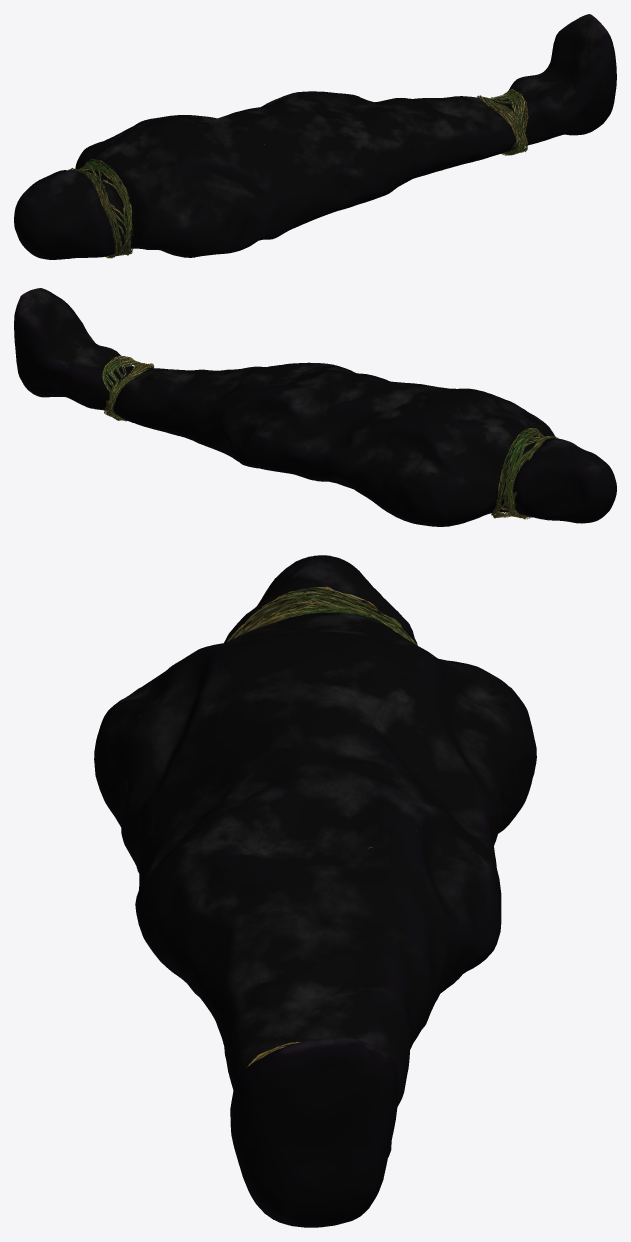
Rendered from corpse.glb.
The picture shows the model from 3 angles, top to bottom: view 1: azimuth 30°, elevation 25°; view 2: azimuth 150°, elevation 25°; view 3: azimuth 270°, elevation 25°; orthographic projection. The views are drawn at different scales.
Visible parts, largest first — view 1: Corpse Bag, Rope Head, Rope Feet, Rope Feet_Rope Feet PBR_0.001, Rope Head_Rope Head PBR_0.001, Rope Feet_Rope Feet PBR_0.002; view 2: Corpse Bag, Rope Head, Rope Feet, Rope Feet_Rope Feet PBR_0.001, Rope Head_Rope Head PBR_0.001, Rope Feet_Rope Feet PBR_0.002; view 3: Corpse Bag, Rope Head, Rope Head_Rope Head PBR_0.001.
Boxes of the visible parts, left/top/right/bottom form: Corpse Bag: left=14, top=14, right=616, bottom=259; Rope Head: left=68, top=159, right=133, bottom=258; Rope Feet: left=479, top=90, right=527, bottom=155; Rope Feet_Rope Feet PBR_0.001: left=477, top=89, right=528, bottom=155; Rope Head_Rope Head PBR_0.001: left=69, top=160, right=132, bottom=257; Rope Feet_Rope Feet PBR_0.002: left=477, top=90, right=527, bottom=155; Corpse Bag: left=14, top=288, right=616, bottom=526; Rope Head: left=491, top=428, right=558, bottom=518; Rope Feet: left=102, top=356, right=153, bottom=420; Rope Feet_Rope Feet PBR_0.001: left=102, top=355, right=154, bottom=421; Rope Head_Rope Head PBR_0.001: left=494, top=428, right=556, bottom=519; Rope Feet_Rope Feet PBR_0.002: left=103, top=356, right=153, bottom=420; Corpse Bag: left=94, top=555, right=536, bottom=1227; Rope Head: left=203, top=587, right=417, bottom=707; Rope Head_Rope Head PBR_0.001: left=227, top=586, right=406, bottom=641.
Bounding box in the file's own units: 2.02 × 0.3362 × 0.6597.
Materials: 3 (3 with a texture image).
